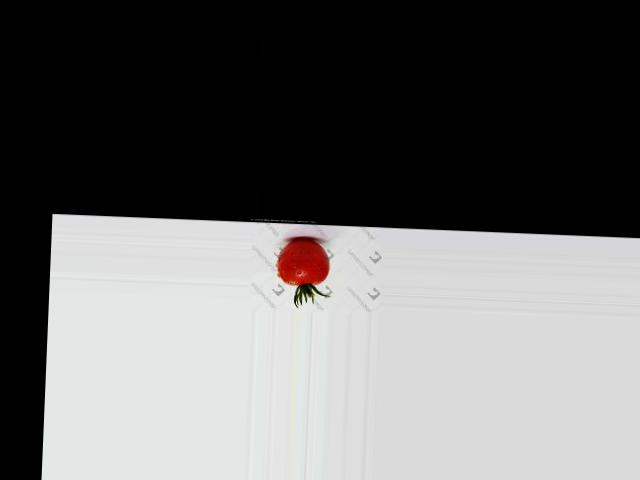tomato: (278, 237, 331, 286)
